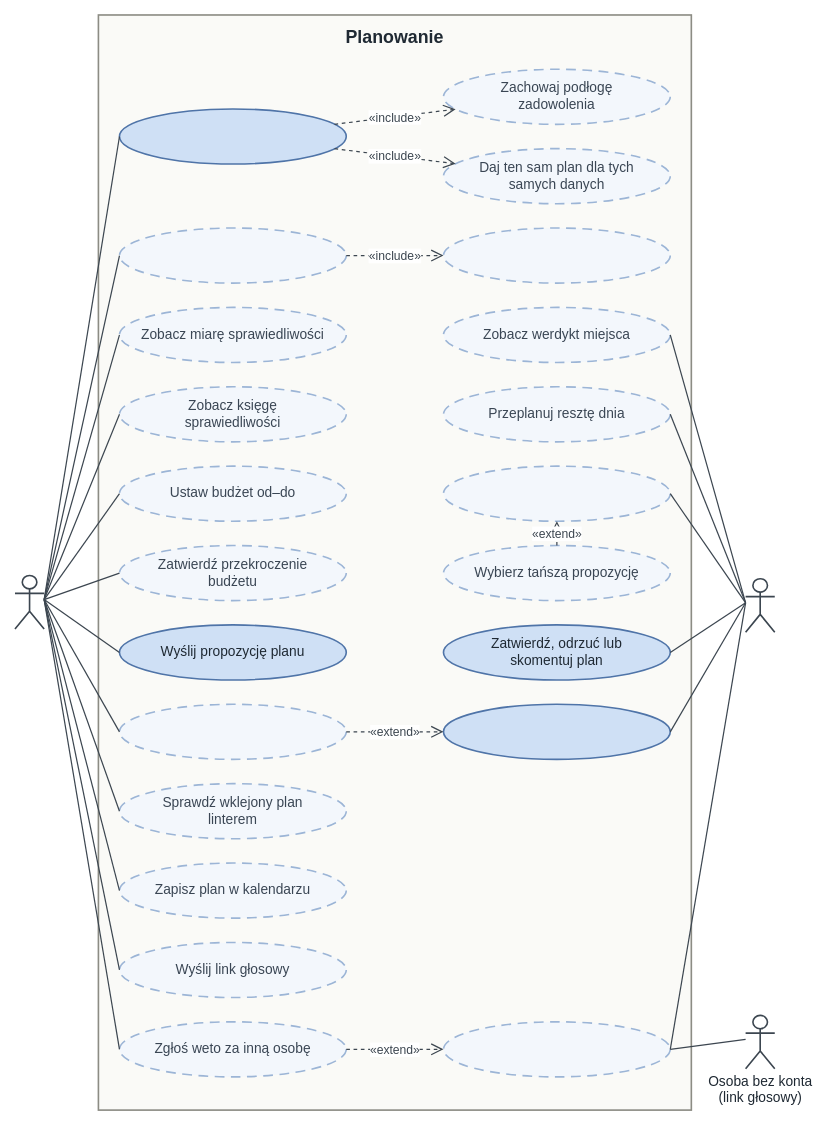
This 826x1124 diagram has some shape labels left out. Each missing label, with the centre of its shape:
"Członek podróży" goes at (759,605).
"Host" goes at (29,601).
"Pobierz zatwierdzony plan" goes at (556,731).
"Sprawdź budżet dnia" goes at (556,493).
"Ułóż plan algorytmem" goes at (232,136).
"Wydrukuj plan lub zapisz PDF" goes at (232,731).
"Wymuś lub zablokuj miejsce" goes at (232,255).
"Zgłoś weto" goes at (556,1049).
"Zobacz koszt override" goes at (556,255).
